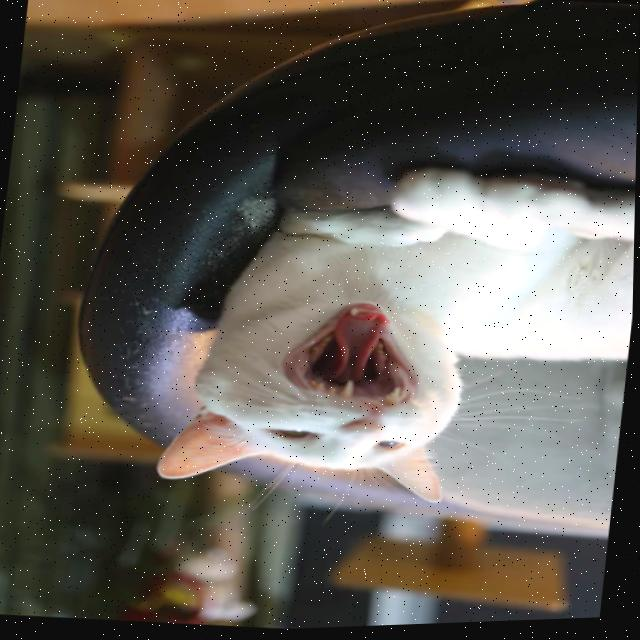Khao Manee: (147, 136, 637, 535)
